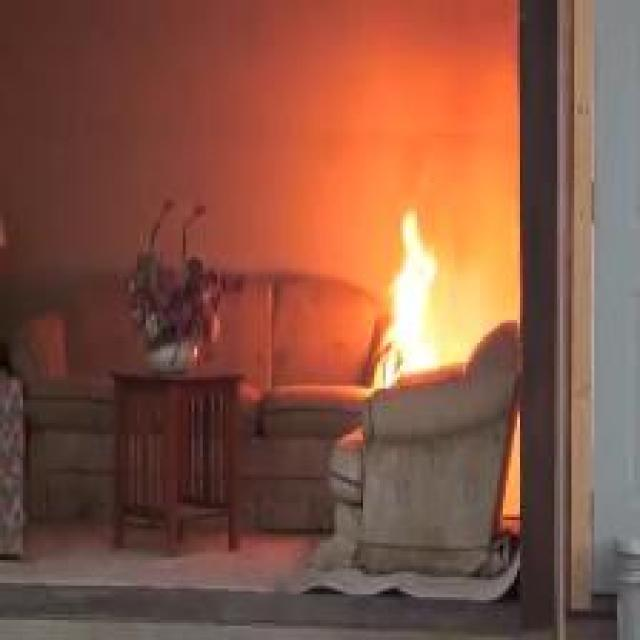Fire: (386, 216, 452, 395)
